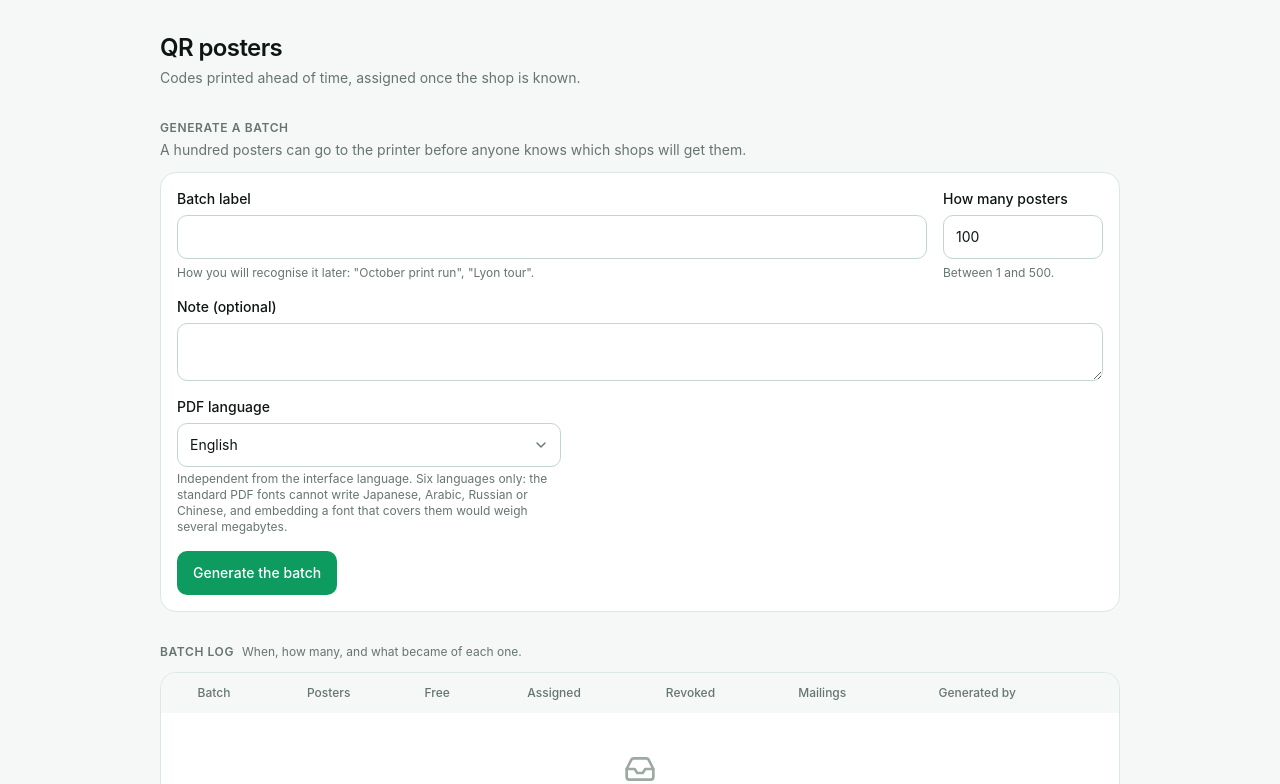
PlatformPostersPage — /platform/posters › refuse d'imprimer des points d'interrogation quand les polices ne suivent pas
Type "Octobre" into the field labelled "Batch label" at [552, 237], box [177,215,927,259]
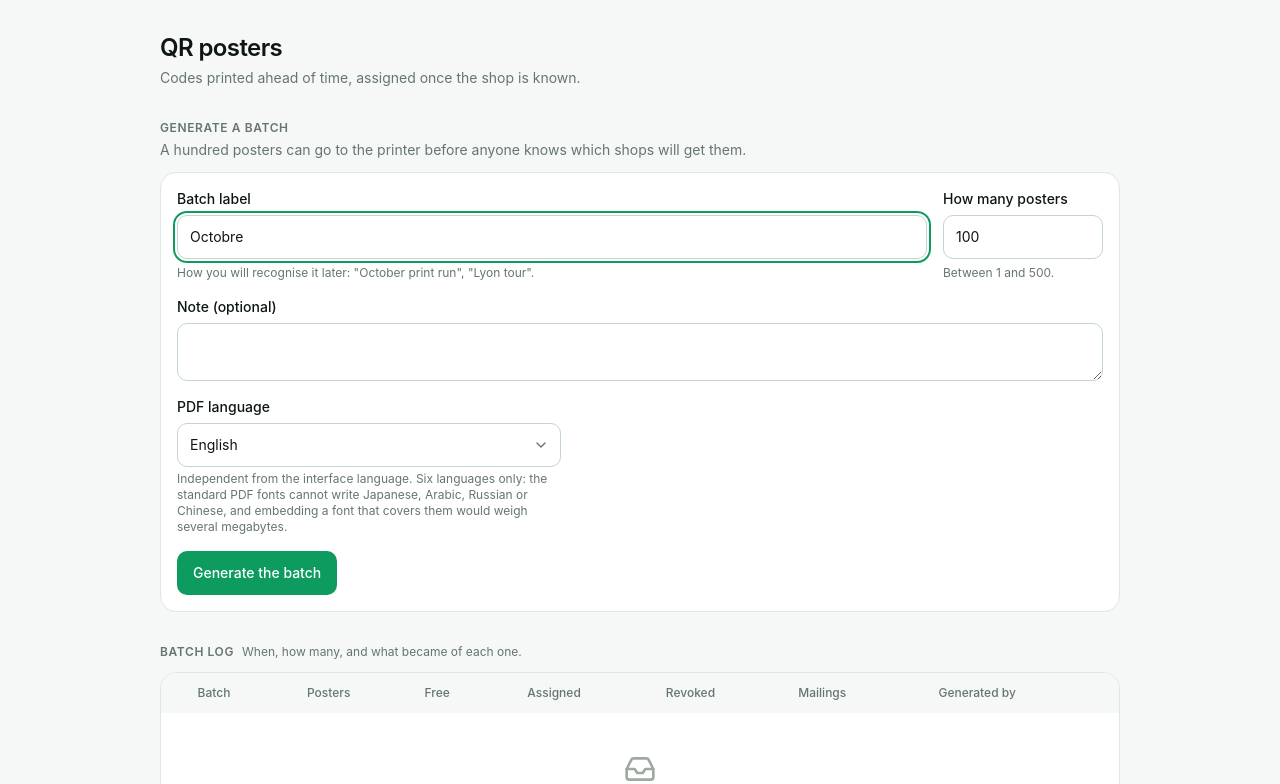
Click the button "Generate the batch" at [257, 573], box [177,551,337,595]
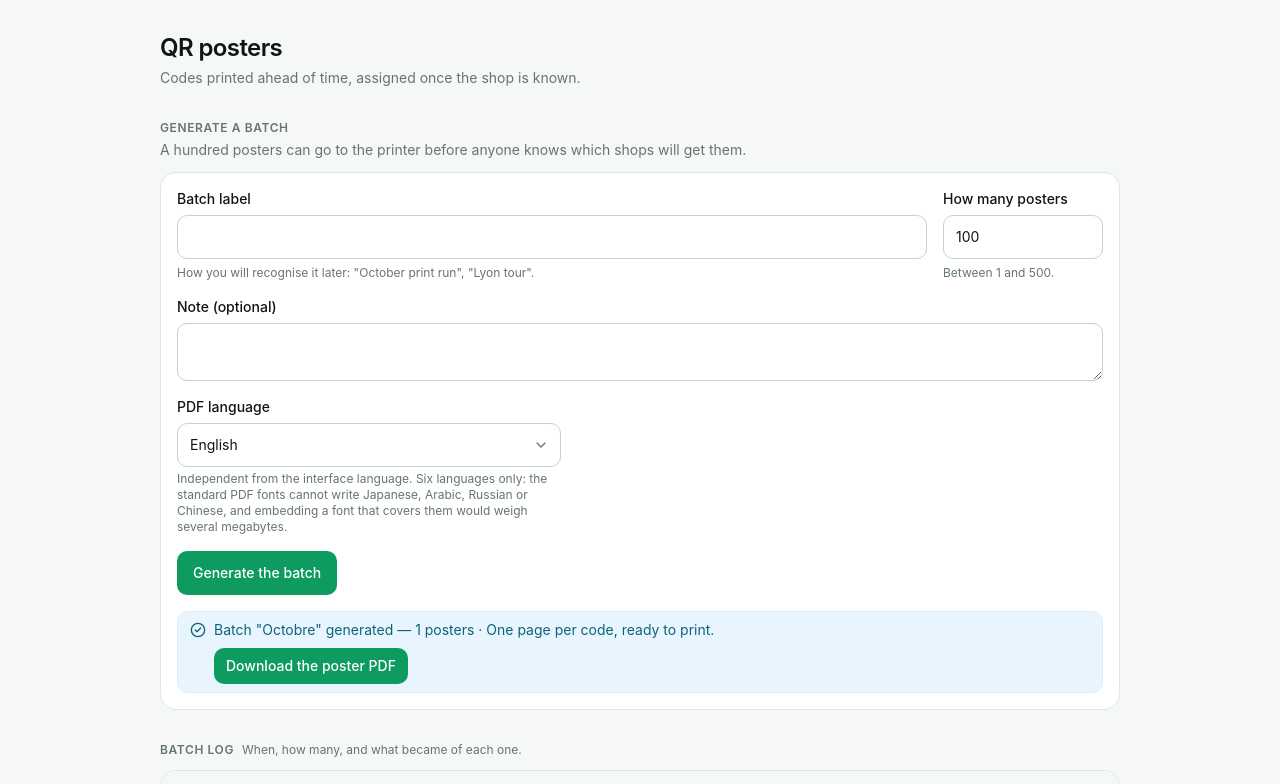
Click the button "Download the poster PDF" at [311, 666], box [214,648,408,684]
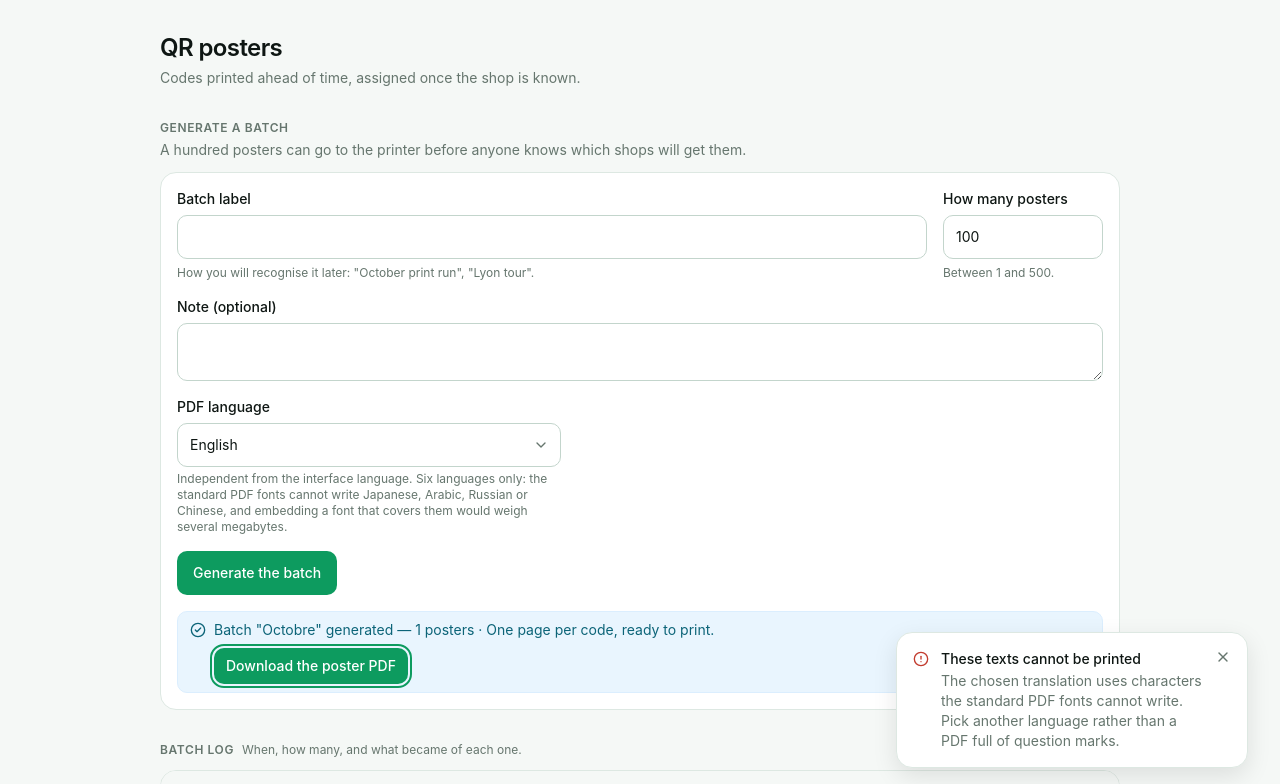
Expected: the text "These texts cannot be printed" is shown, [941,650,1141,667]
